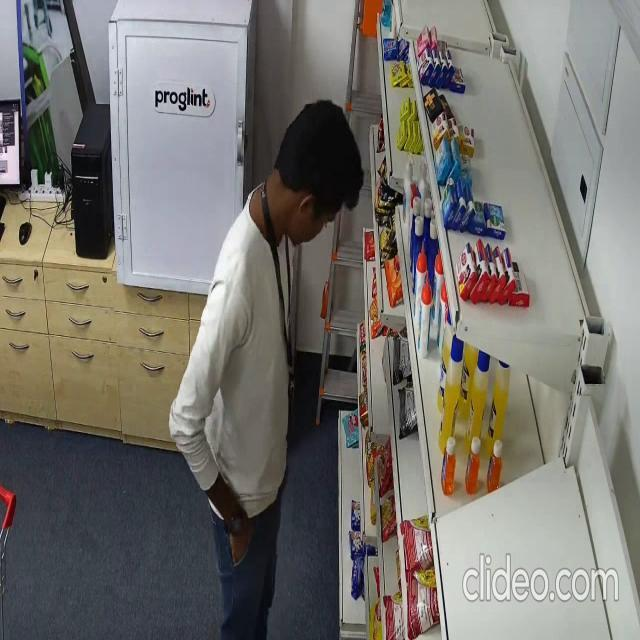Shoplifting: (167, 102, 366, 640)
